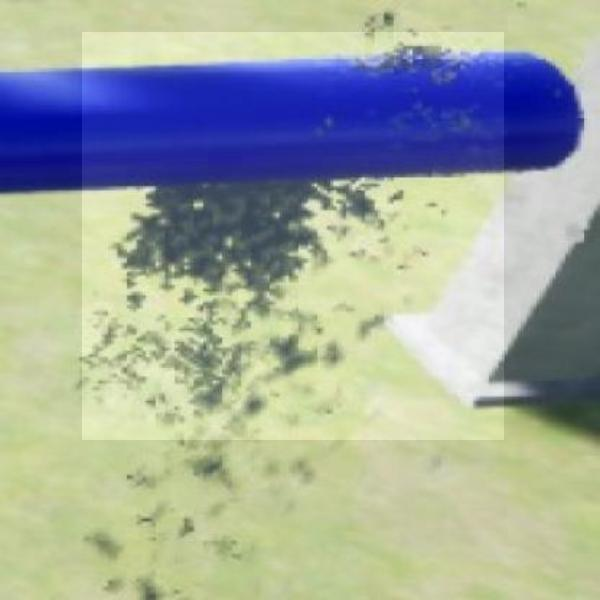gas: (82, 32, 504, 440)
